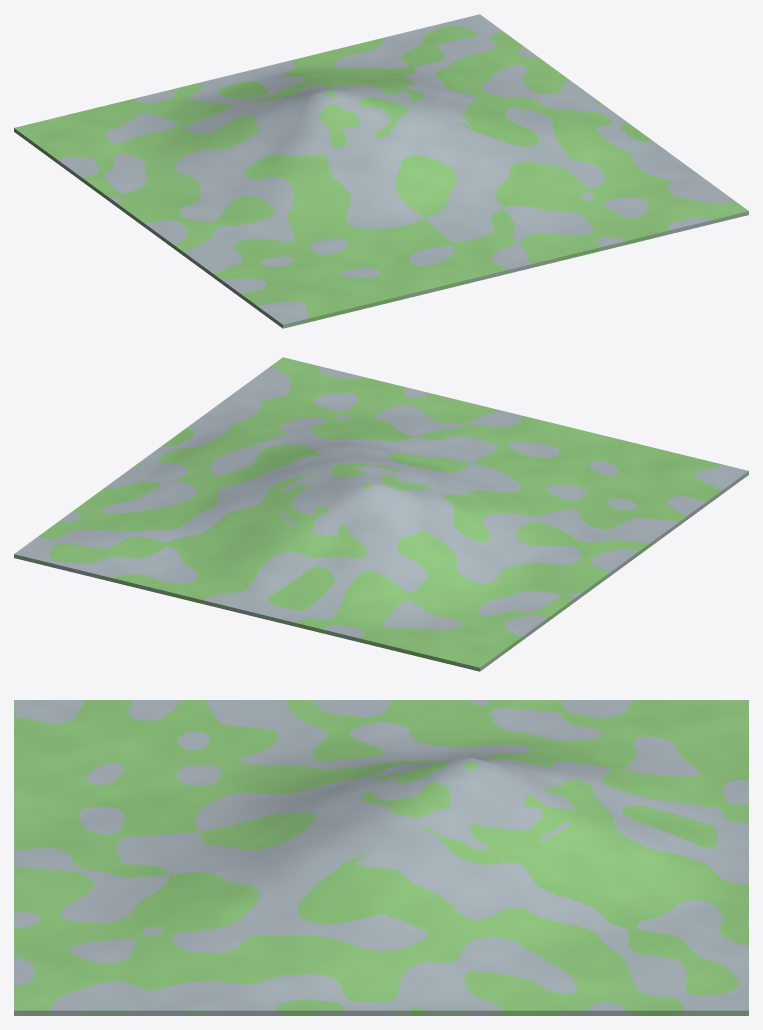
File: Grass_RockyGround_09.obj
3 renders of one model, top to bottom at view 1: azimuth 30°, elevation 25°; view 2: azimuth 150°, elevation 25°; view 3: azimuth 270°, elevation 25°, orthographic. The views are drawn at different scales.
Bounding box in the file's own units: 10 × 1.25 × 10.
Materials: 1 (1 with a texture image).
